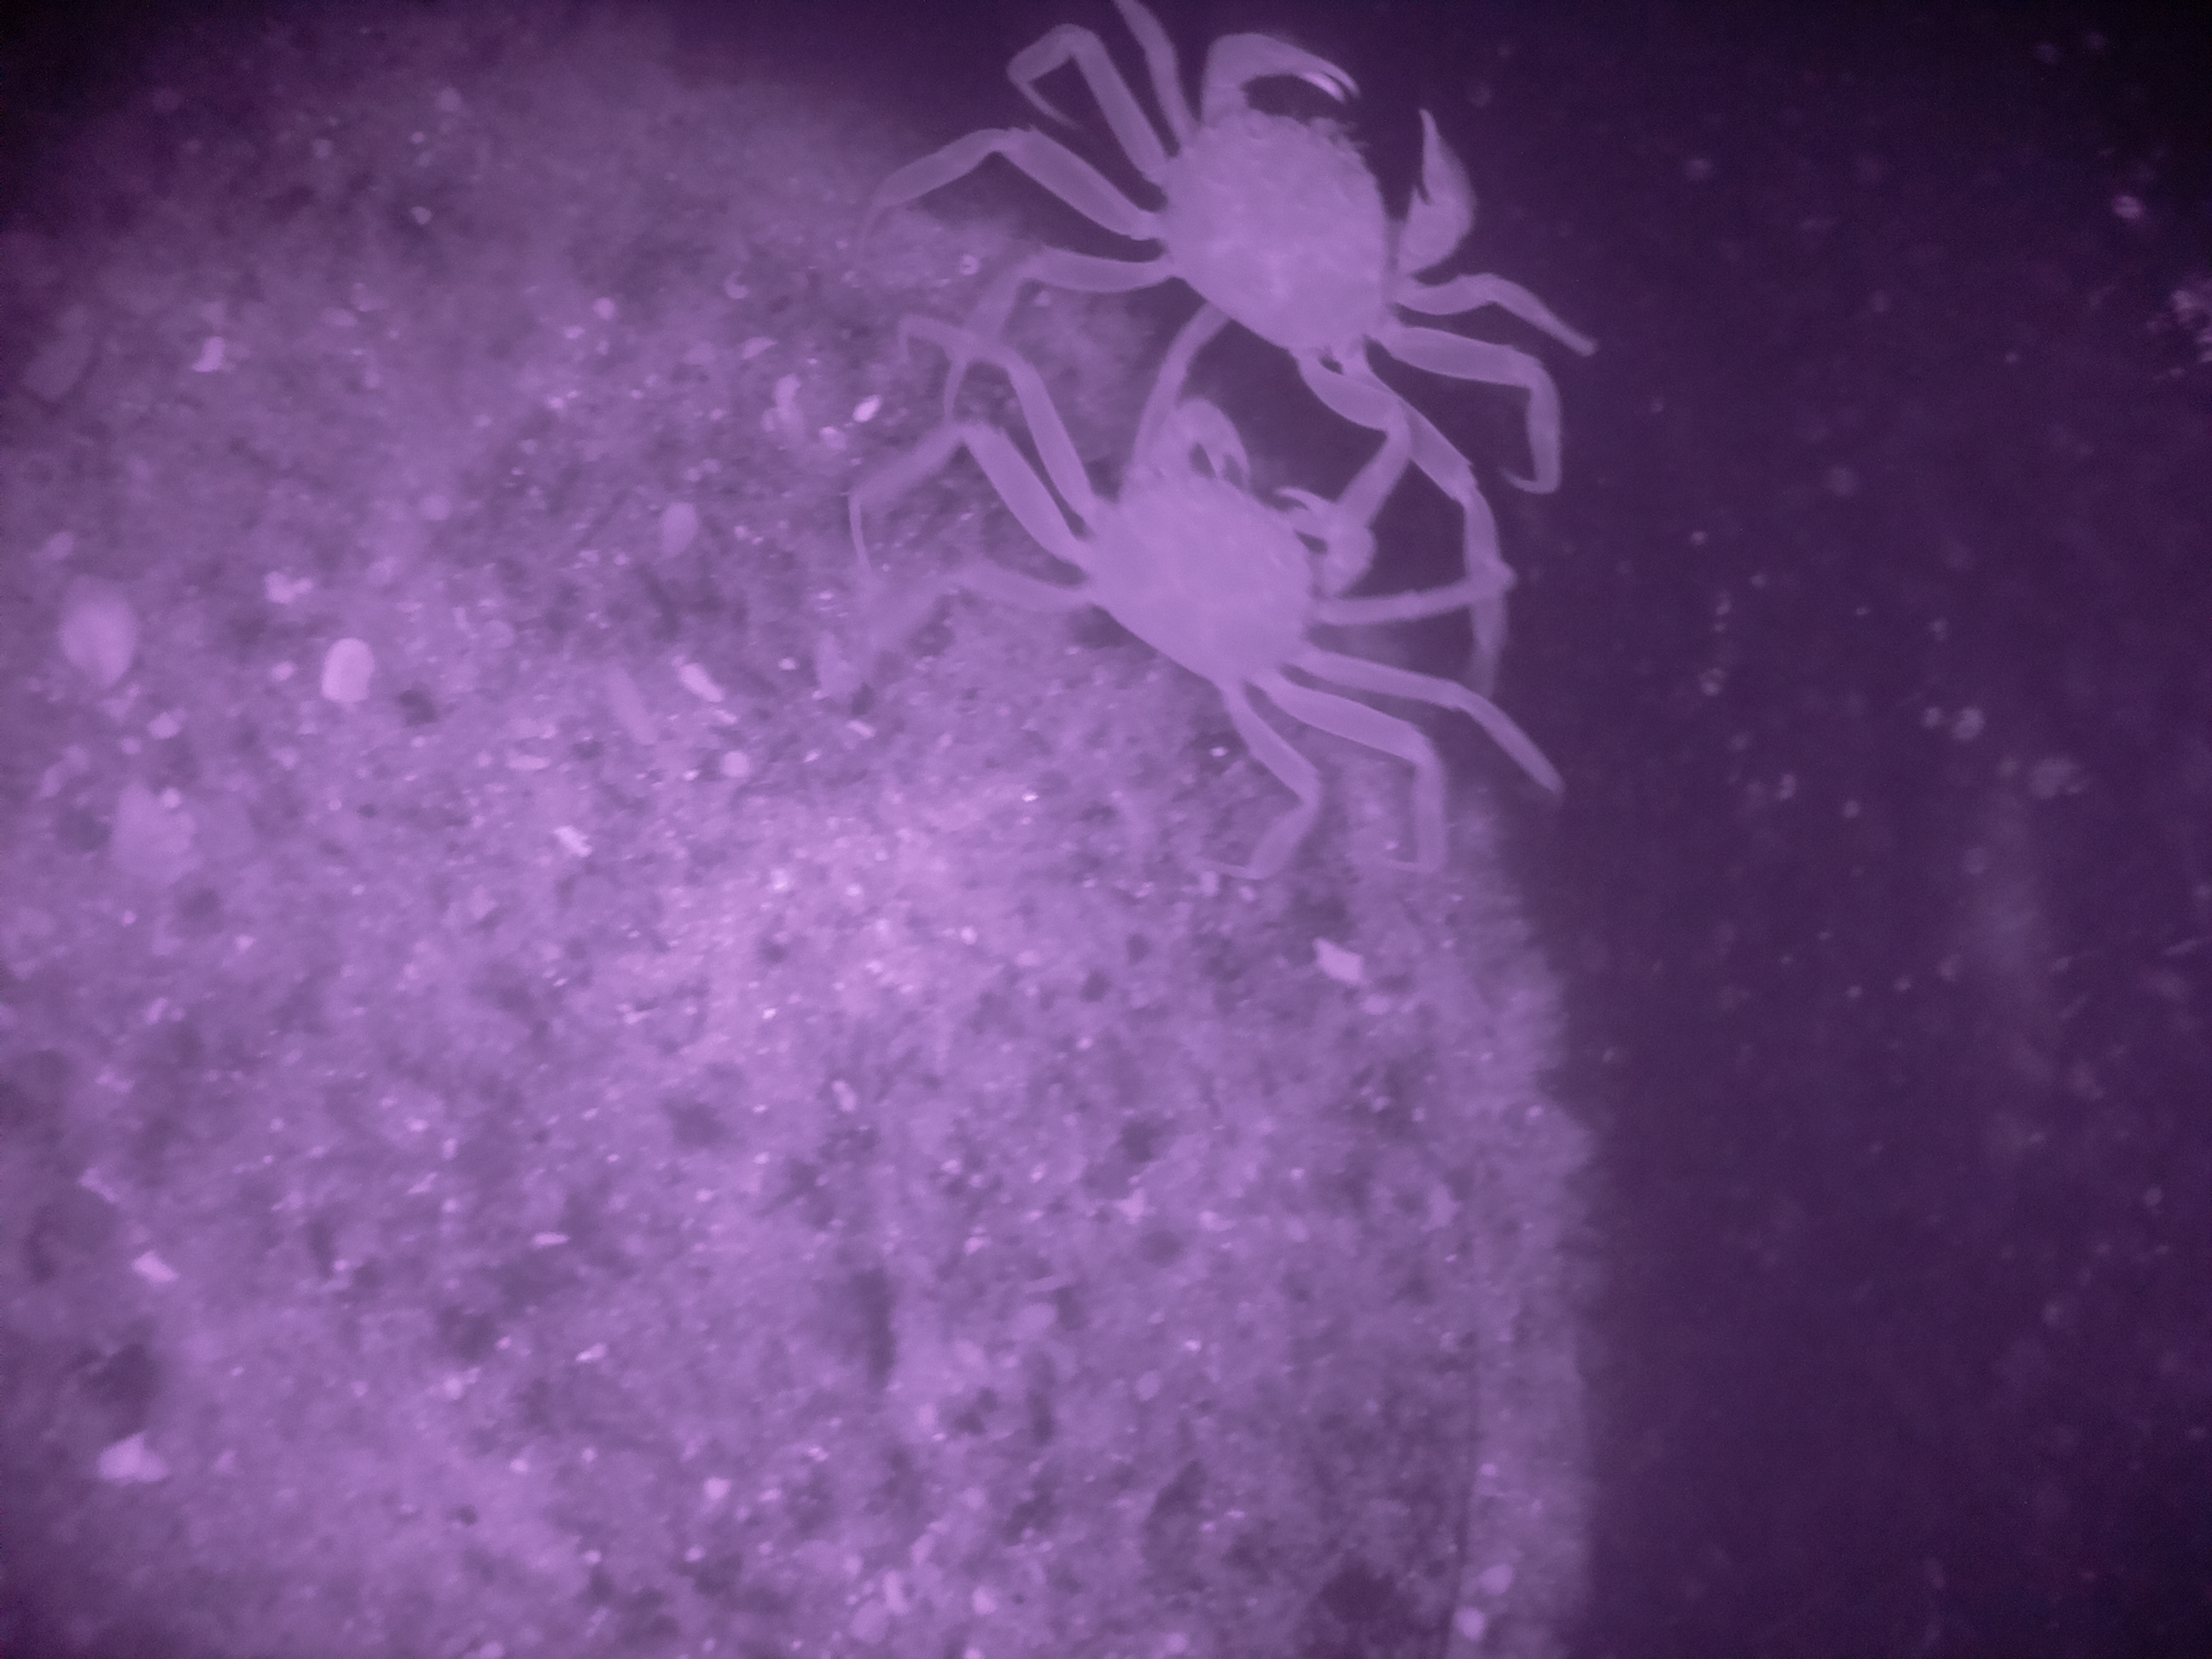Crab: (1047, 5, 1527, 397), (974, 350, 1449, 711)
